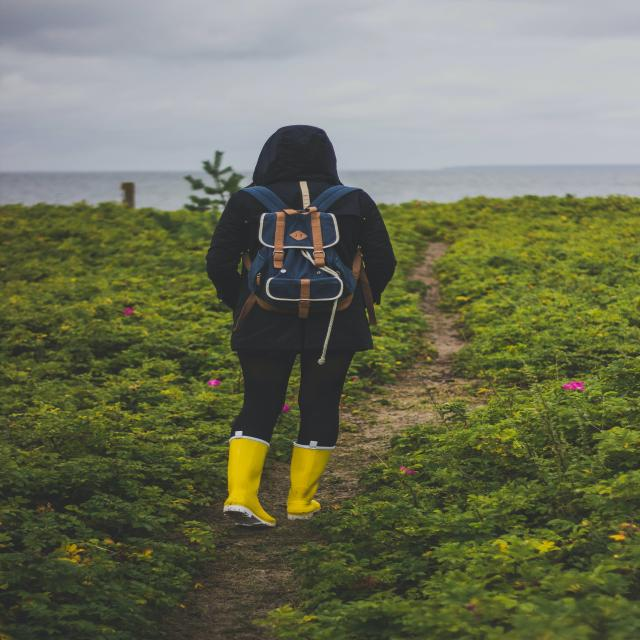backpack: (230, 182, 359, 316)
